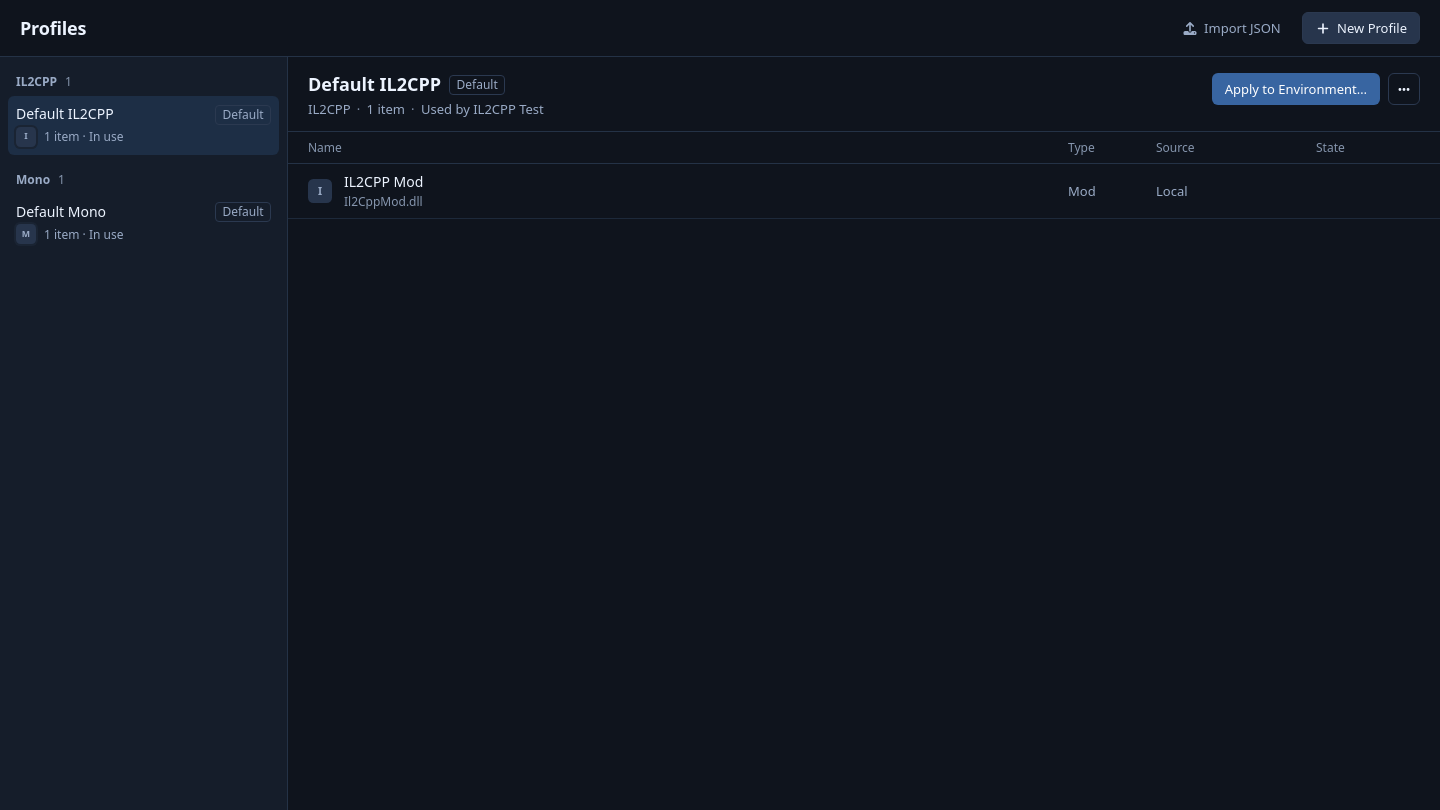
Test: ProfilesWorkspace › lists environments currently using the selected profile in the header
Expected: the button "Default IL2CPP Default I 1 item · In use" is shown, [8, 96, 279, 155]
Expected: the text "Used by IL2CPP Test" is shown, [421, 100, 544, 119]
What coordinates should you click on to do the following:
click the button "Default Mono Default M 1 item · In use"
I would click on:
 (61, 212)
Its box is [8, 194, 279, 252].
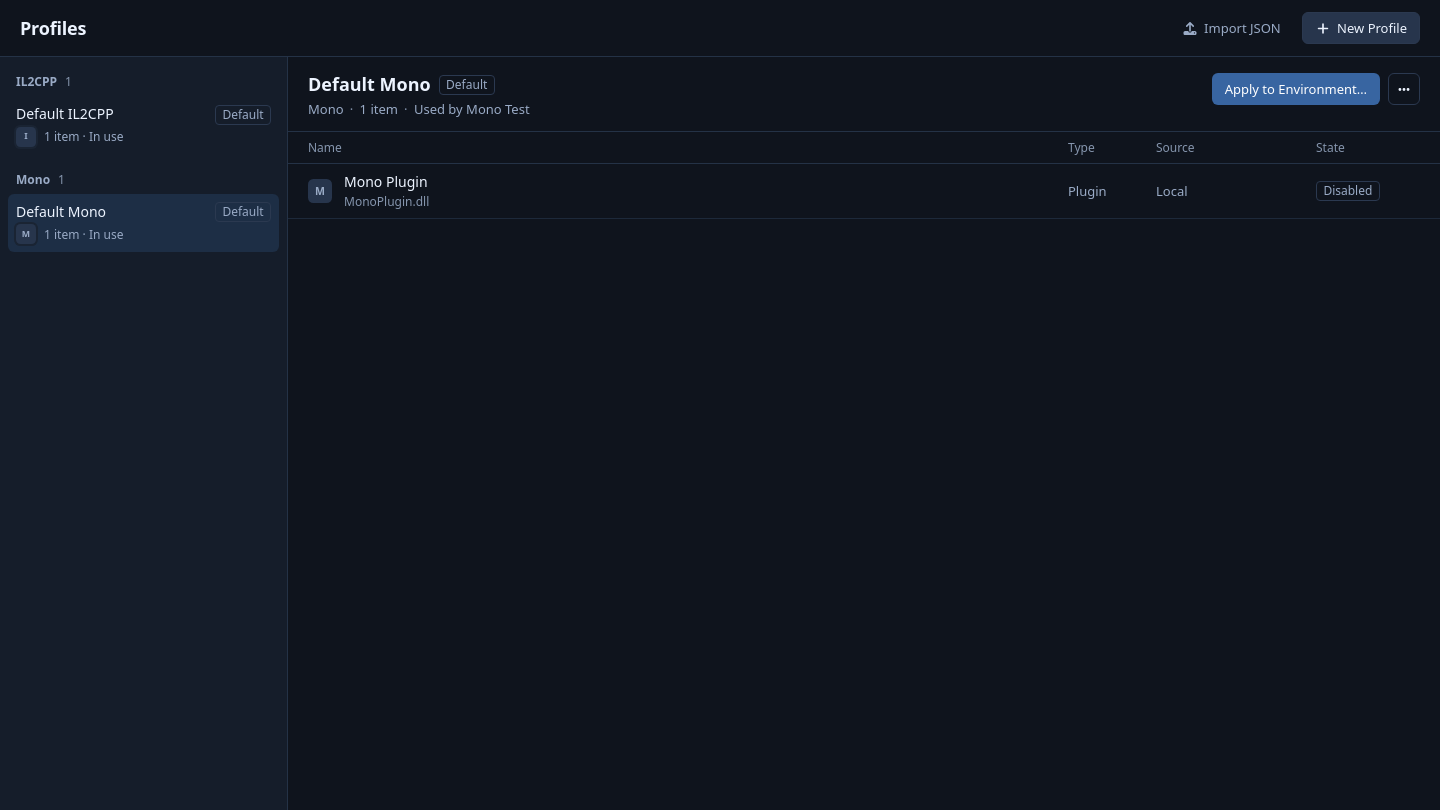
Now the text "Used by Mono Test" is shown, box [414, 100, 530, 119]
